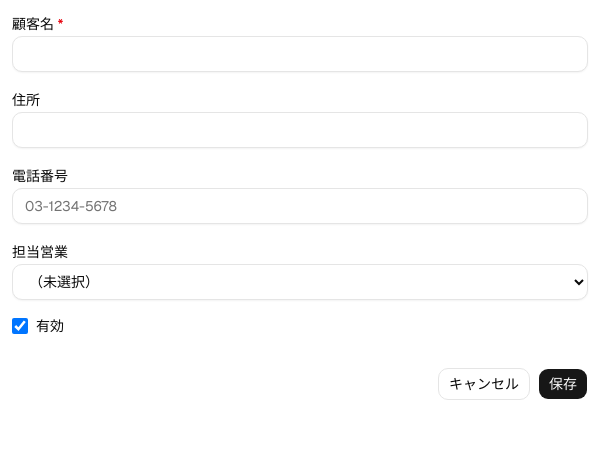
Test: CustomerForm › ネットワークエラー時にネットワークエラーメッセージが表示される
In the field labelled "顧客名 *": (300, 54) left=12, top=36, right=588, bottom=72, type "ABC商事"
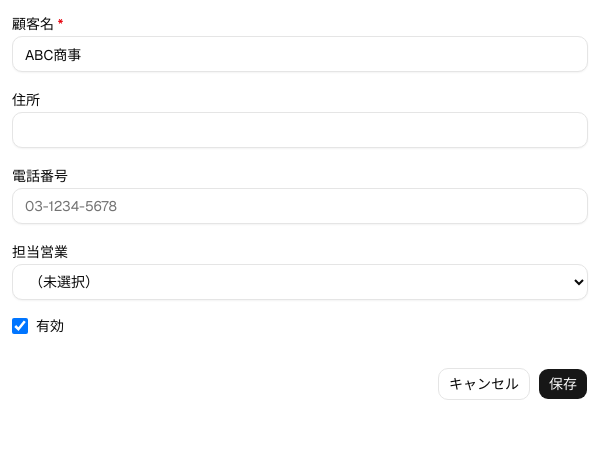
Click the button "保存": (563, 384) left=538, top=368, right=588, bottom=400
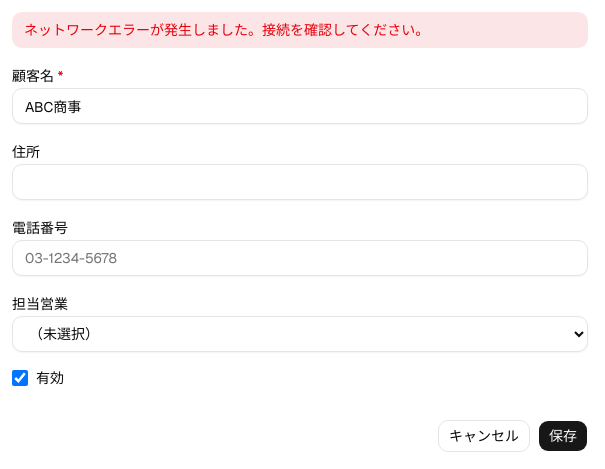
Expected: the text "ネットワークエラーが発生しました。接続を確認してください。" is shown, left=12, top=12, right=588, bottom=48
